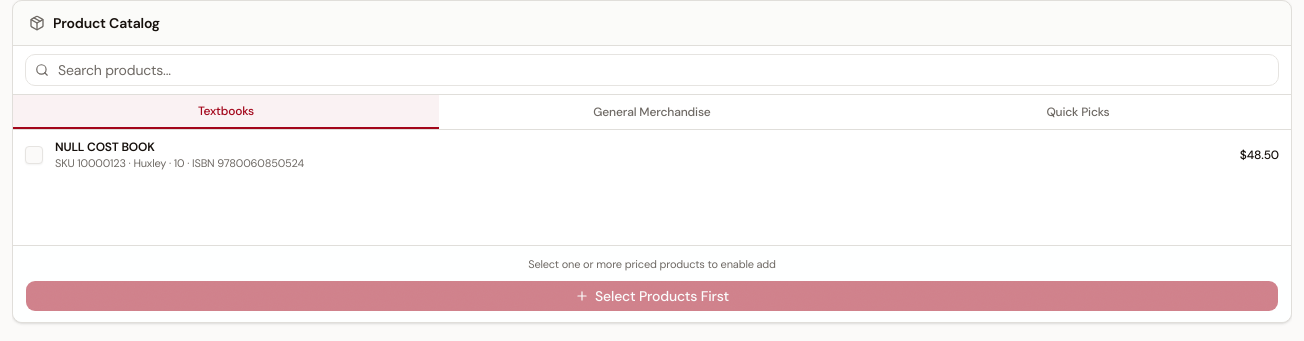
Scenario: ProductSearchPanel › adds rows with a retail price while preserving null cost and vendor id
This screenshot has width=1304, height=341.
Click the text "NULL COST BOOK" at (105, 147), box left=55, top=139, right=155, bottom=155
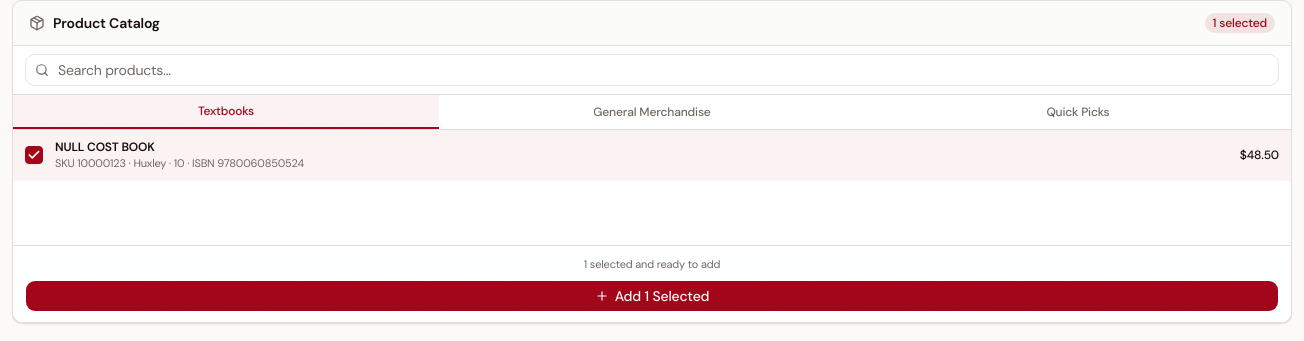
Click the button "Add 1 Selected" at (652, 296), box left=25, top=280, right=1279, bottom=312
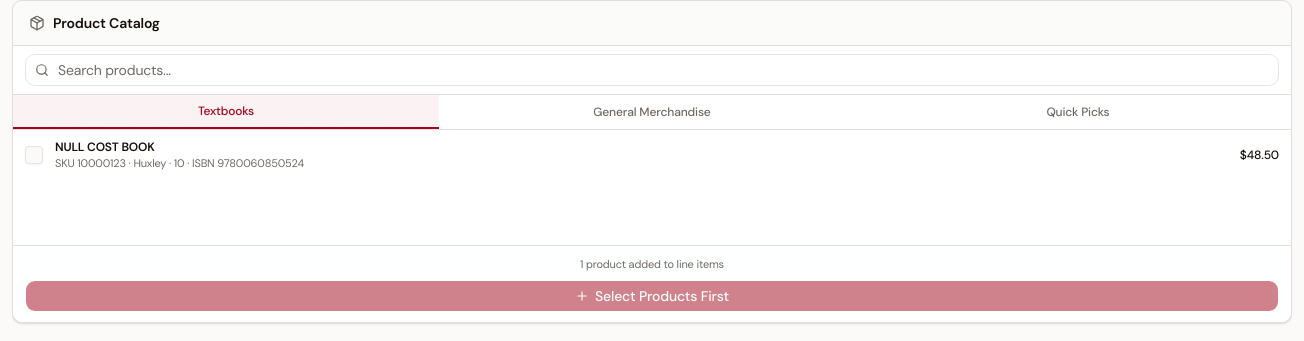
expect the text "1 product added to line items" is shown: met, box left=580, top=257, right=724, bottom=271
